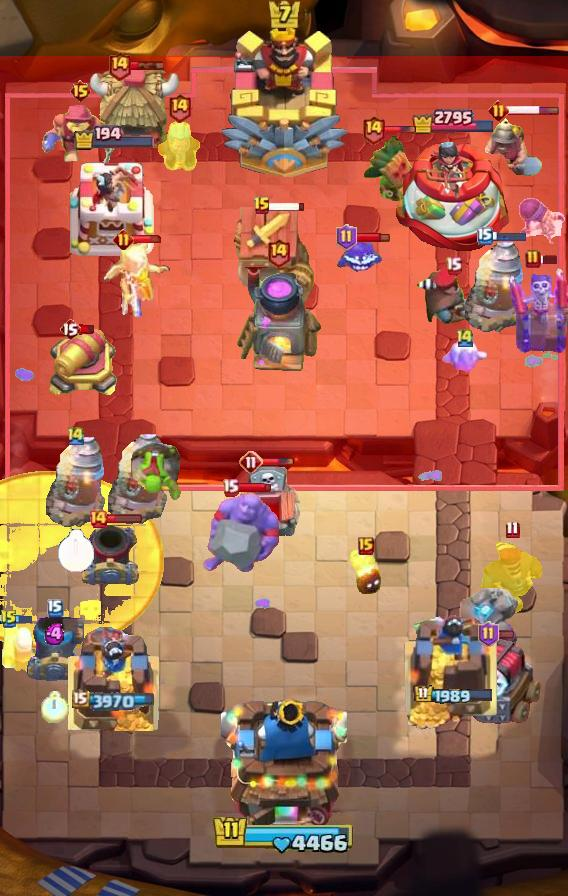archer-queen: (199, 491, 281, 575)
bandit: (482, 111, 544, 179)
bar-level: (130, 441, 184, 503)
bomber: (348, 547, 384, 597)
clock: (212, 814, 356, 856)
electro-spirit: (45, 623, 68, 645)
elixir: (57, 529, 95, 573), (41, 691, 69, 723)
elixir-golem-mid: (233, 465, 303, 551)
emote: (506, 105, 560, 116), (106, 512, 143, 524), (236, 482, 272, 494), (355, 231, 390, 243), (269, 201, 306, 212), (491, 231, 527, 242), (130, 61, 165, 72), (1, 614, 33, 625), (383, 125, 417, 135), (261, 457, 295, 467), (132, 234, 164, 244), (539, 255, 559, 266), (496, 628, 516, 639), (80, 325, 97, 336)
fireball: (40, 103, 120, 177)
goblin-ball: (516, 196, 568, 250)
goblin-barrel: (362, 134, 418, 206)
golem: (457, 638, 543, 726)
hunter: (233, 267, 323, 375)
king-tower: (219, 23, 349, 181), (221, 690, 347, 826)
magic-archer: (465, 241, 525, 333), (108, 433, 168, 525), (46, 436, 106, 528)
mirror: (440, 338, 490, 376)
mortar: (148, 115, 210, 175)
musketeer: (79, 521, 141, 589), (25, 617, 85, 681)
phoenix-egg: (0, 470, 164, 650)
phoenix-small: (479, 540, 545, 620), (415, 266, 491, 326)
poison: (94, 237, 178, 321)
prince: (89, 64, 183, 154)
queen-tower: (390, 137, 516, 255), (403, 613, 506, 731), (68, 627, 160, 731), (70, 154, 158, 256)
royal-recruit: (48, 326, 120, 400)
selected: (412, 107, 497, 134), (72, 125, 155, 151), (71, 689, 156, 711), (414, 684, 495, 706)
skeleton-king-bar: (506, 264, 568, 354)
sparky: (228, 206, 314, 304)
spear-goblin: (335, 237, 383, 277)
text: (108, 51, 133, 82), (167, 93, 192, 124), (362, 114, 387, 145), (266, 237, 291, 267), (239, 450, 263, 474), (335, 224, 357, 250), (477, 621, 499, 647), (68, 79, 91, 103), (59, 317, 81, 341), (488, 99, 509, 121), (114, 229, 135, 251), (455, 327, 475, 349), (66, 425, 86, 447), (88, 509, 108, 529), (253, 196, 271, 216), (0, 609, 18, 629), (525, 249, 541, 269), (446, 257, 463, 275), (222, 479, 239, 497), (477, 227, 493, 245), (358, 537, 374, 555), (47, 599, 63, 617), (504, 521, 519, 539)
tombstone: (0, 617, 42, 675)
valkyrie-evolution: (451, 588, 521, 656)
